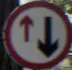Two way: (13, 2, 64, 60)
